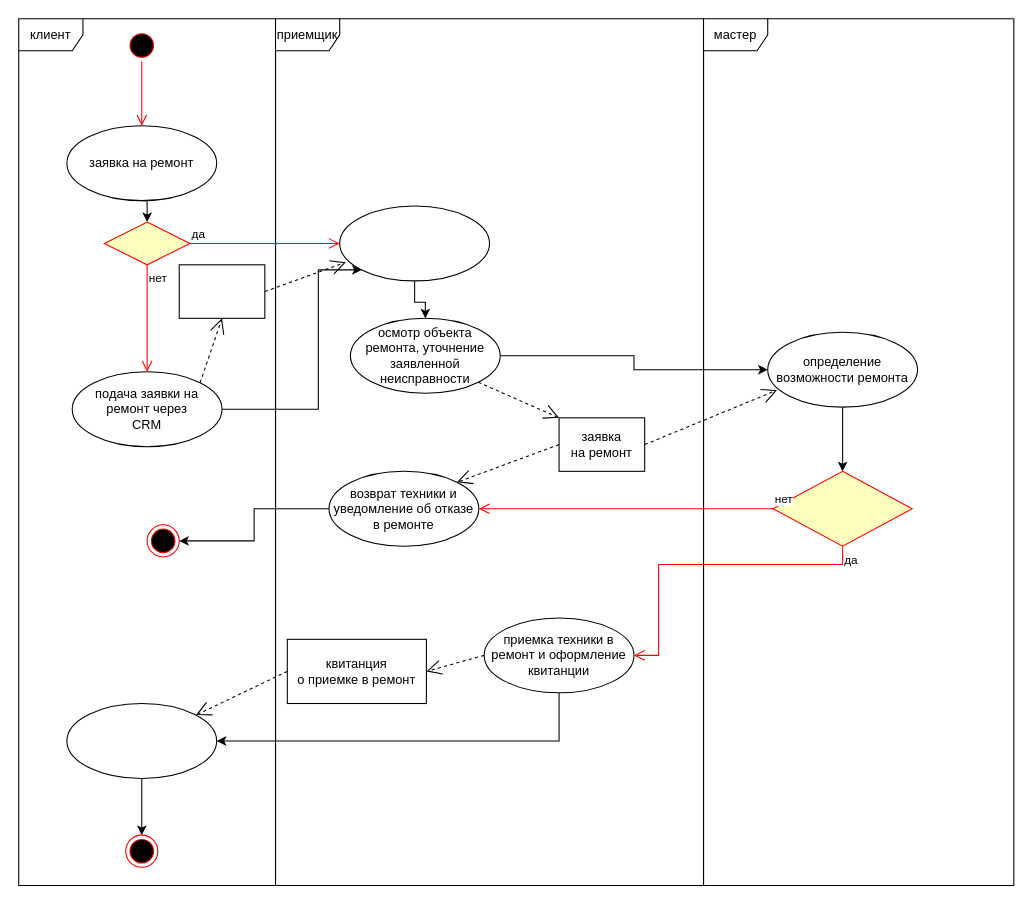
Some shapes in this 1033 by 904 pixel diagram are drawn without their labels. The shapes that lost their labels are listed below. From the top down, each one's centre as x and y in pixels, then its label:
point 146,243: лично
point 414,243: прием заявки на ремонт
point 221,291: предварит заявка на ремонт
point 842,508: ремонт возможен?
point 141,740: оформление передачи техники в ремонт и прием квитанции
